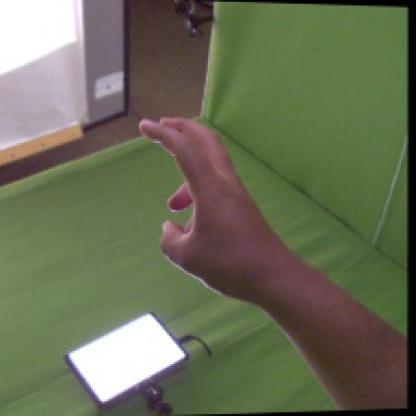Hand: (138, 115, 274, 302)
